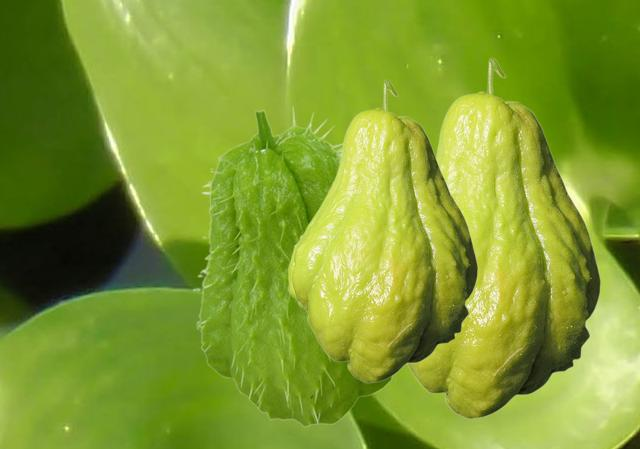sayote: (407, 57, 600, 418), (192, 105, 394, 426), (287, 79, 477, 382)
